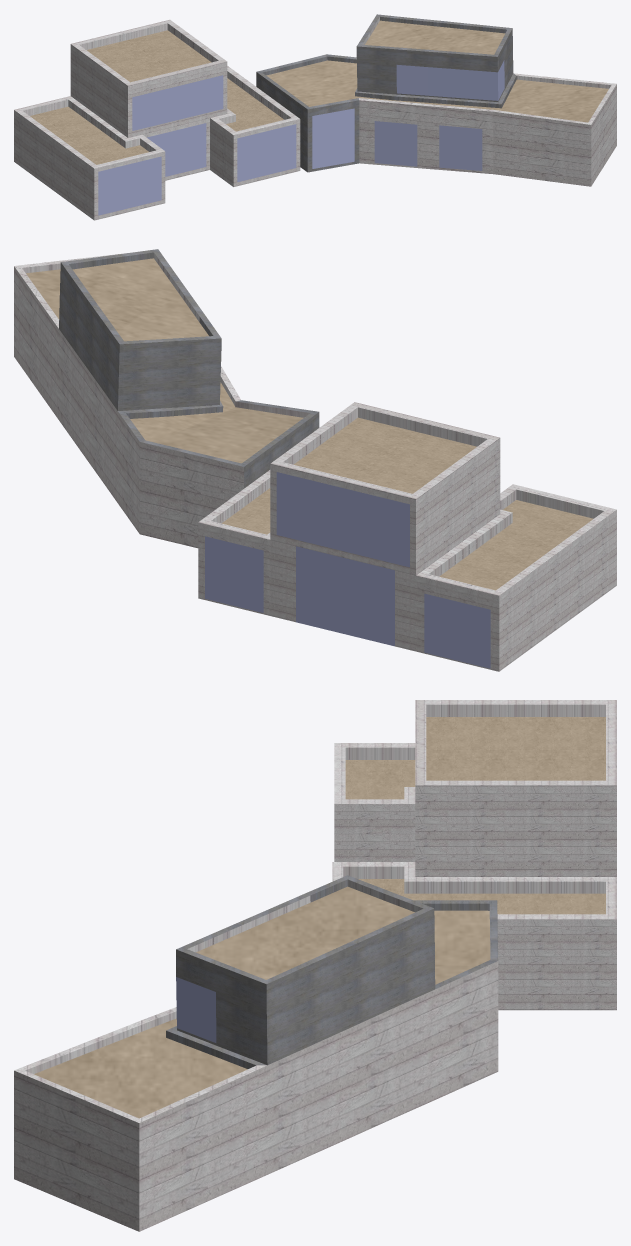
The picture shows the model from 3 angles, top to bottom: view 1: azimuth 30°, elevation 25°; view 2: azimuth 150°, elevation 25°; view 3: azimuth 270°, elevation 25°; orthographic projection. The views are drawn at different scales.
Visible parts, largest first — view 1: Cube.022, Cube.023; view 2: Cube.023, Cube.022; view 3: Cube.022, Cube.023.
Boxes of the visible parts, left/top/right/bottom form: Cube.022: left=256, top=14, right=616, bottom=186; Cube.023: left=14, top=19, right=300, bottom=220; Cube.023: left=198, top=402, right=616, bottom=671; Cube.022: left=14, top=249, right=319, bottom=548; Cube.022: left=14, top=875, right=498, bottom=1231; Cube.023: left=332, top=700, right=616, bottom=1010.
Bounding box in the file's own units: 53.8 × 12.42 × 34.24.
Materials: 4 (3 with a texture image).
